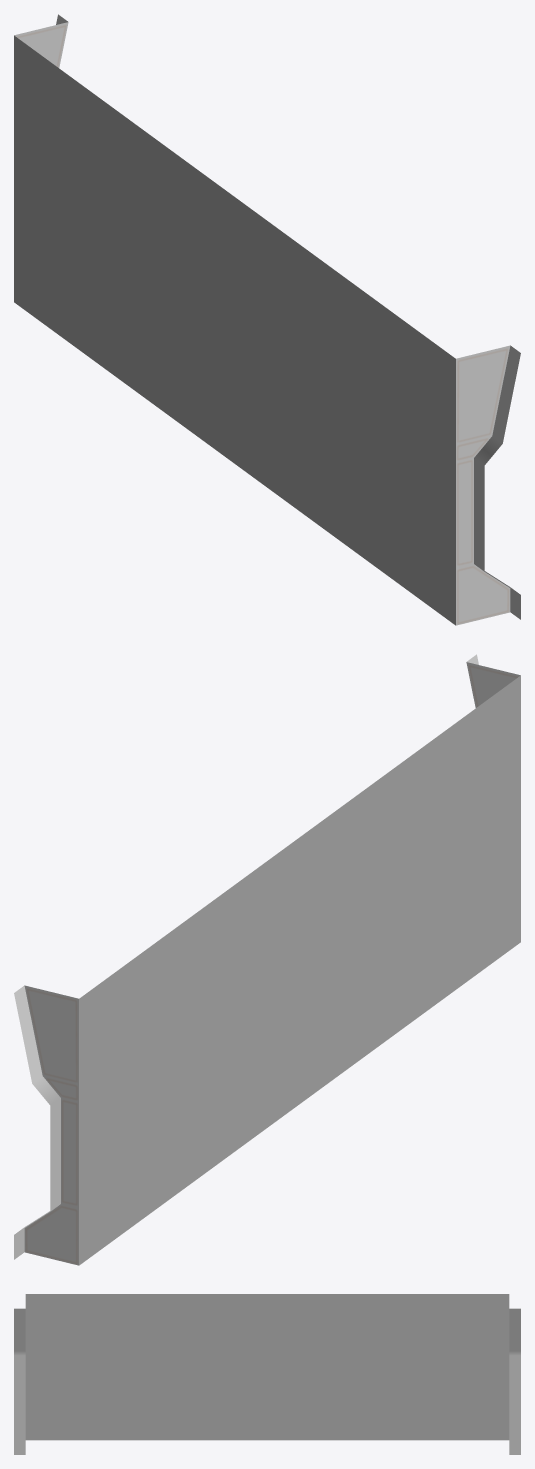
Rendered from SL_HallwayTWall.fbx.
3 views of the same model, one above another, from view 1: azimuth 30°, elevation 25°; view 2: azimuth 150°, elevation 25°; view 3: azimuth 270°, elevation 25° (orthographic). The views are drawn at different scales.
Parts seen in each view (by area): view 1: SL_HallwayTWall; view 2: SL_HallwayTWall; view 3: SL_HallwayTWall.
Boxes of the visible parts, x1,y1,x2,y2 form: SL_HallwayTWall: (14,14,520,625); SL_HallwayTWall: (14,654,520,1265); SL_HallwayTWall: (14,1294,520,1454).
Bounding box in the file's own units: 914 × 4267 × 13411.
